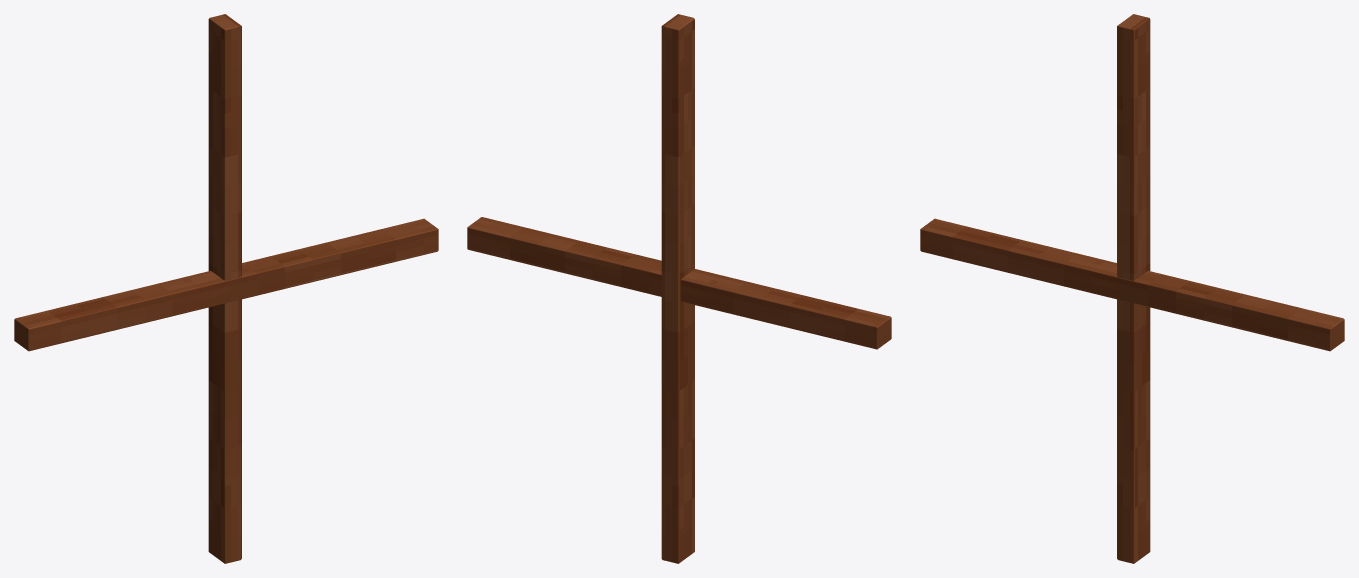
The model's file is Crossbars.glb.
The picture shows the model from 3 angles, left to right: view 1: azimuth 30°, elevation 25°; view 2: azimuth 150°, elevation 25°; view 3: azimuth 330°, elevation 25°; orthographic projection.
Visible parts, largest first — view 1: Crossbars; view 2: Crossbars; view 3: Crossbars.
Boxes of the visible parts, <box> form: Crossbars: <box>14,14,438,563</box>; Crossbars: <box>467,14,891,563</box>; Crossbars: <box>920,14,1344,563</box>.
Size of the model in its own units: 1.15 by 1.43 by 0.0815.
1 material, 1 textured.
